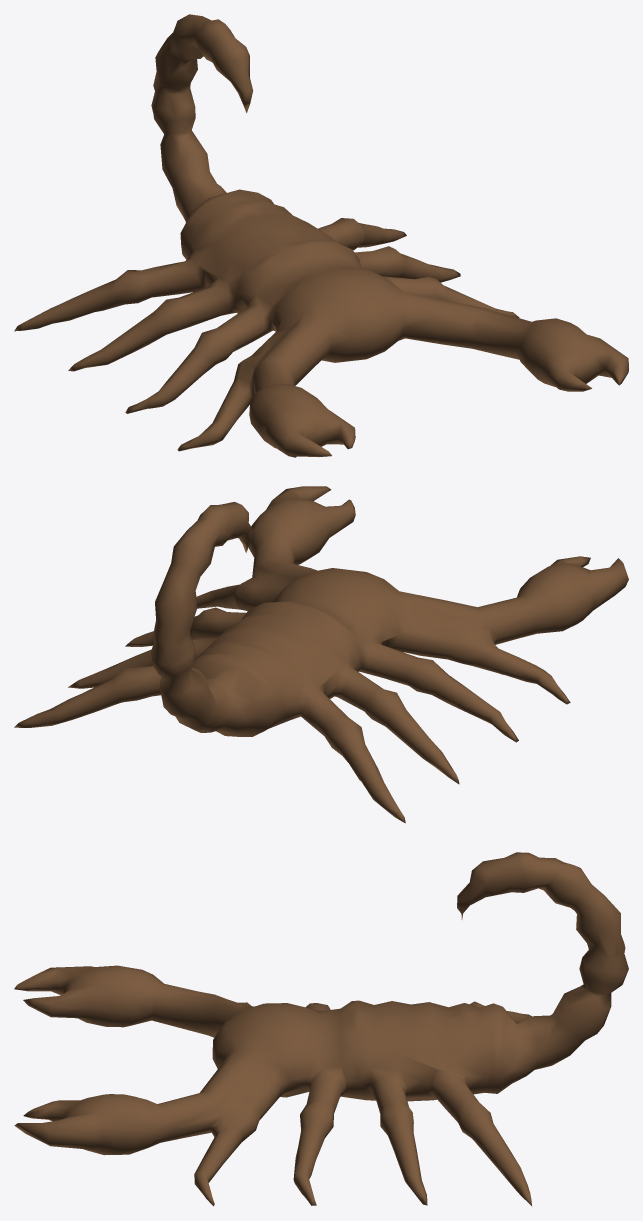
The model's file is NEW_RECOVERY_009_LOD2.glb.
3 views of the same model, one above another, from view 1: azimuth 30°, elevation 25°; view 2: azimuth 150°, elevation 25°; view 3: azimuth 270°, elevation 25° (orthographic). The views are drawn at different scales.
Visible parts, largest first — view 1: Scorpion_LOD2; view 2: Scorpion_LOD2; view 3: Scorpion_LOD2.
Part boxes in pixels (x1,y1,x2,y2): Scorpion_LOD2: (14, 14, 628, 457); Scorpion_LOD2: (14, 486, 628, 823); Scorpion_LOD2: (14, 852, 628, 1206).
Size of the model in its own units: 3.08 by 1.99 by 4.27.
